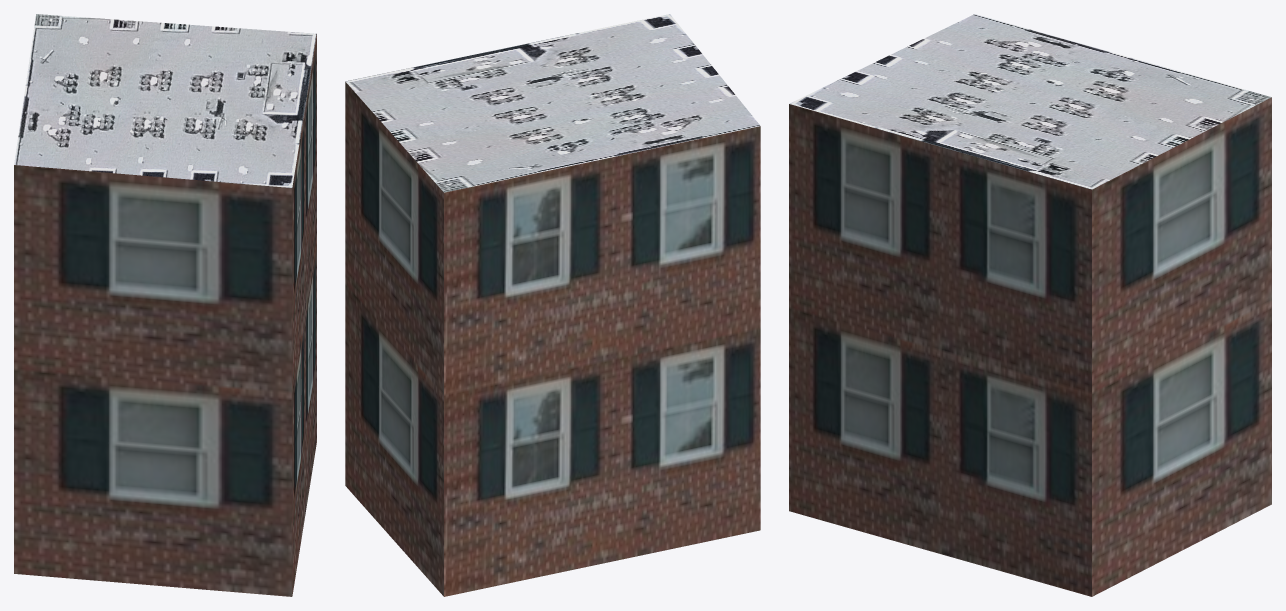
Rendered from ResTex__416.fbx.
The picture shows the model from 3 angles, left to right: view 1: azimuth 30°, elevation 25°; view 2: azimuth 150°, elevation 25°; view 3: azimuth 270°, elevation 25°; orthographic projection.
Parts seen in each view (by area): view 1: CityEngineMaterial_14_m, CityEngineMaterial_2_m; view 2: CityEngineMaterial_14_m, CityEngineMaterial_2_m; view 3: CityEngineMaterial_14_m, CityEngineMaterial_2_m.
Part boxes in pixels (bbox=[...]): CityEngineMaterial_14_m: bbox=[14, 34, 316, 596]; CityEngineMaterial_2_m: bbox=[14, 14, 316, 187]; CityEngineMaterial_14_m: bbox=[345, 82, 760, 596]; CityEngineMaterial_2_m: bbox=[345, 14, 760, 192]; CityEngineMaterial_14_m: bbox=[789, 97, 1271, 596]; CityEngineMaterial_2_m: bbox=[789, 14, 1271, 189].
Bounding box in the file's own units: 5.55 × 6 × 6.45.
2 materials, 2 textured.
